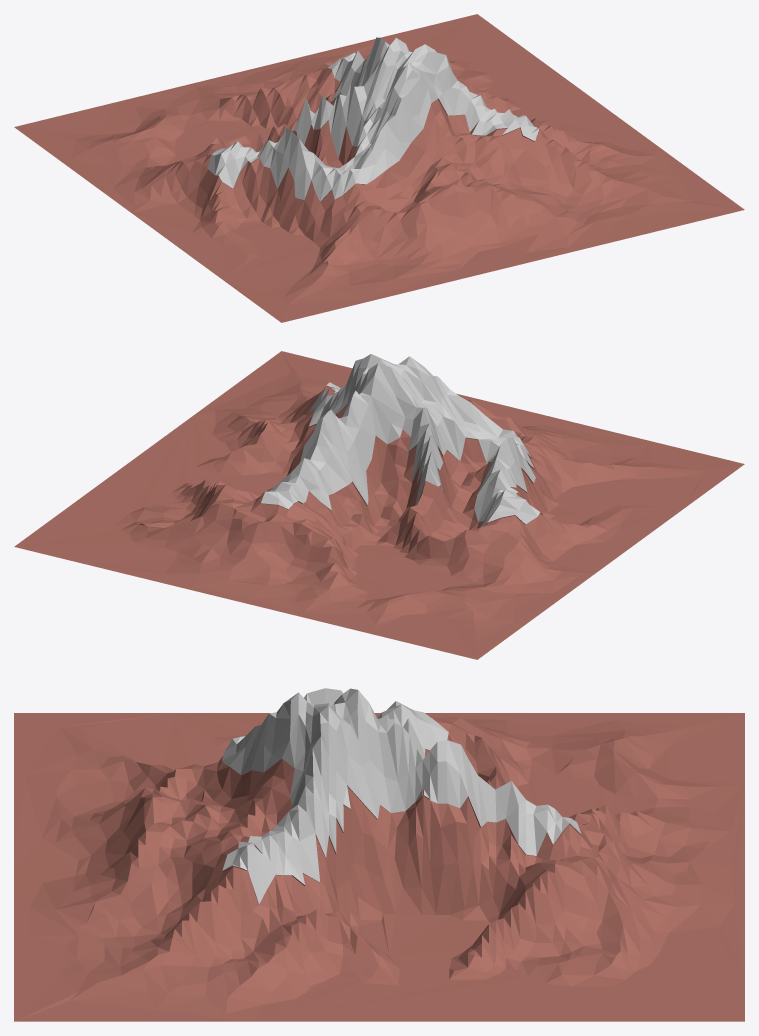
File: landscape_two.fbx
3 views of the same model, one above another, from view 1: azimuth 30°, elevation 25°; view 2: azimuth 150°, elevation 25°; view 3: azimuth 270°, elevation 25° (orthographic). The views are drawn at different scales.
Visible parts, largest first — view 1: landscape; view 2: landscape; view 3: landscape.
Part boxes in pixels (left/top/right/bottom): landscape: left=14, top=14, right=744, bottom=322; landscape: left=14, top=351, right=744, bottom=659; landscape: left=14, top=688, right=744, bottom=1021.
Bounding box in the file's own units: 2100 × 583 × 2100.
